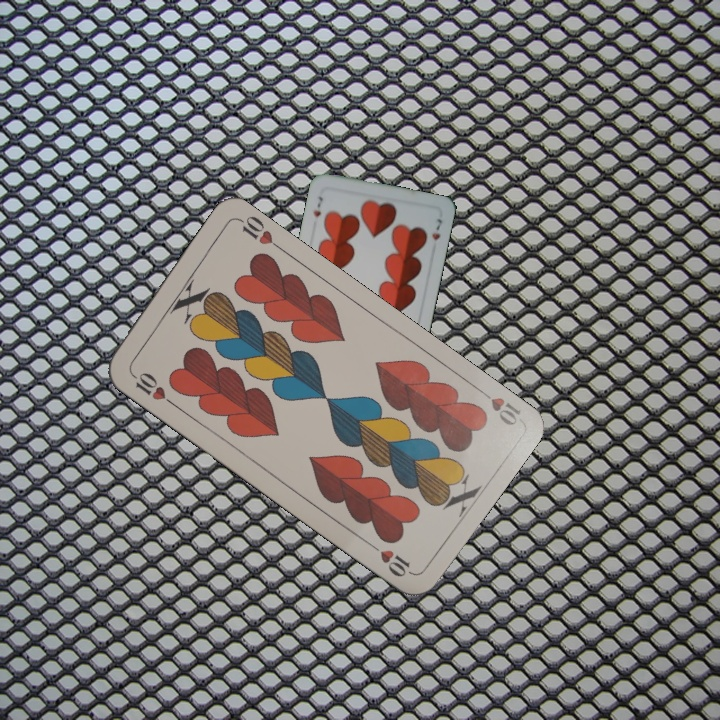H10: (472, 383, 524, 429), (126, 368, 177, 409)
H7: (309, 192, 326, 220)
